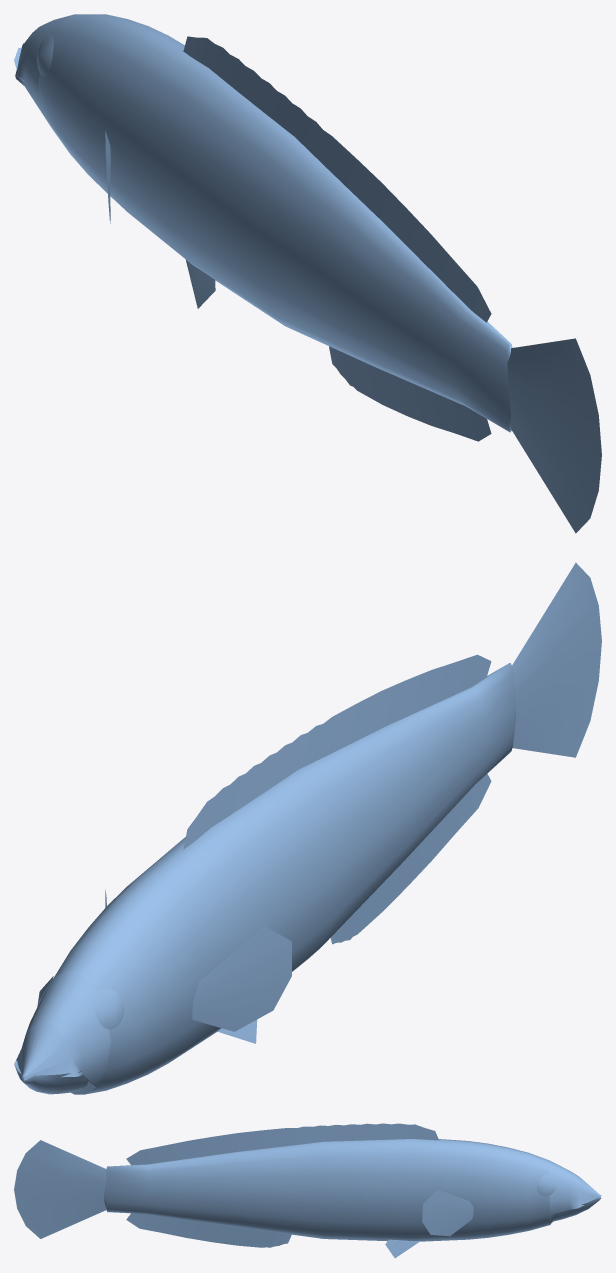
The model's file is wrasse_cleaner_game.glb.
The picture shows the model from 3 angles, top to bottom: view 1: azimuth 30°, elevation 25°; view 2: azimuth 150°, elevation 25°; view 3: azimuth 270°, elevation 25°; orthographic projection. The views are drawn at different scales.
Visible parts, largest first — view 1: wrasse_cleaner_game; view 2: wrasse_cleaner_game; view 3: wrasse_cleaner_game.
Boxes of the visible parts, x1,y1,x2,y2 form: wrasse_cleaner_game: (14,14,601,533); wrasse_cleaner_game: (14,562,601,1094); wrasse_cleaner_game: (14,1123,601,1258).
Size of the model in its own units: 0.0463 by 0.0599 by 0.2497.
